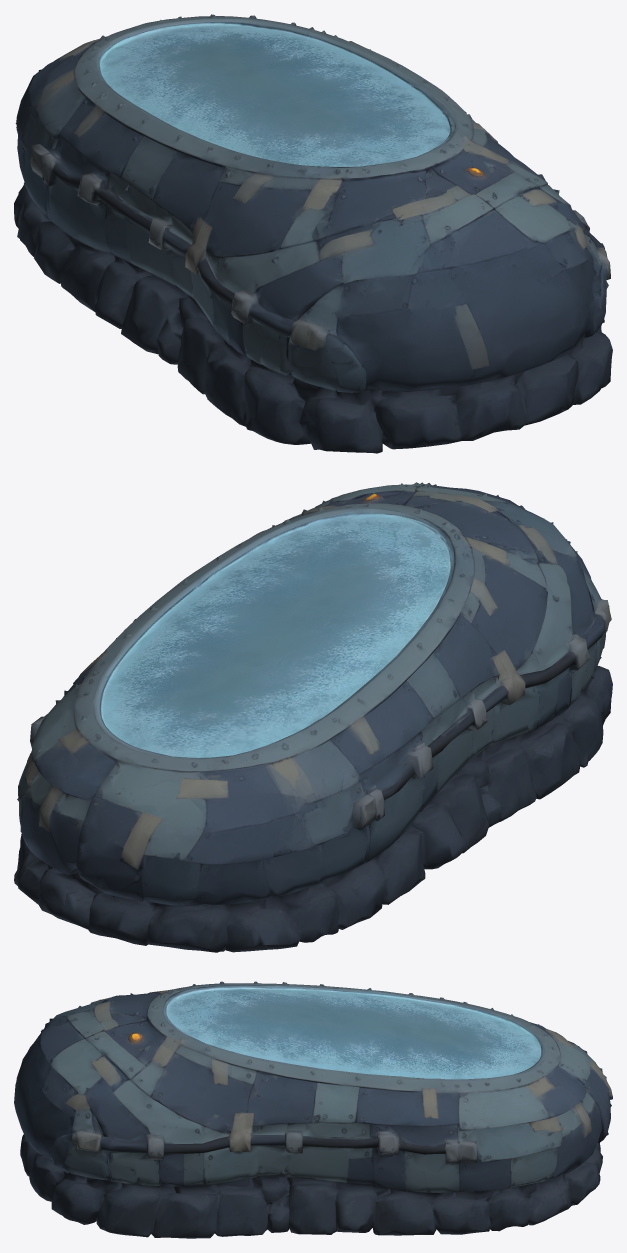
The model's file is p5-shell.glb.
The picture shows the model from 3 angles, top to bottom: view 1: azimuth 30°, elevation 25°; view 2: azimuth 150°, elevation 25°; view 3: azimuth 270°, elevation 25°; orthographic projection. The views are drawn at different scales.
Visible parts, largest first — view 1: tripo_node_607cbc82-7896-4606-83c4-480cb6b81830; view 2: tripo_node_607cbc82-7896-4606-83c4-480cb6b81830; view 3: tripo_node_607cbc82-7896-4606-83c4-480cb6b81830.
Boxes of the visible parts, x1,y1,x2,y2 form: tripo_node_607cbc82-7896-4606-83c4-480cb6b81830: [14, 14, 612, 453]; tripo_node_607cbc82-7896-4606-83c4-480cb6b81830: [14, 482, 612, 952]; tripo_node_607cbc82-7896-4606-83c4-480cb6b81830: [14, 981, 612, 1238].
Bounding box in the file's own units: 1.34 × 0.8 × 2.56.
Materials: 1 (1 with a texture image).
